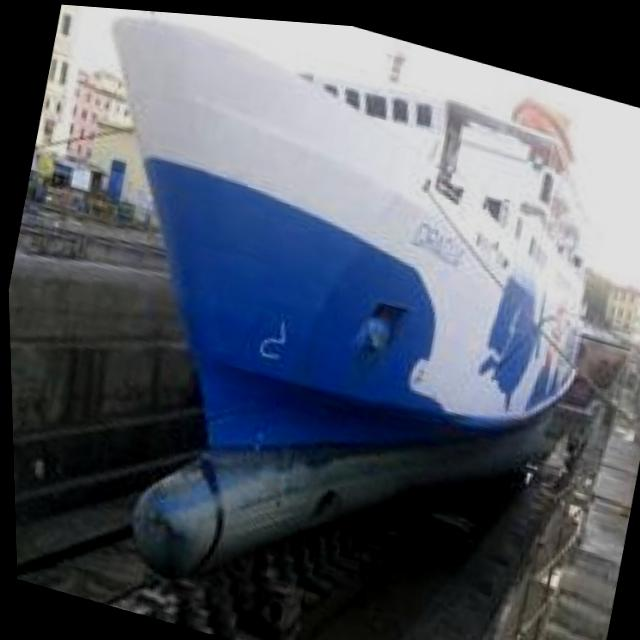ship2: (110, 14, 585, 579)
